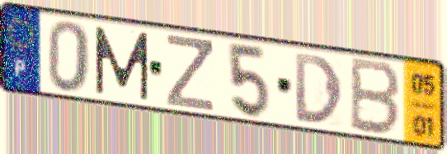0: (45, 18, 93, 95)
5: (223, 41, 273, 121)
B: (347, 54, 403, 139)
D: (292, 50, 345, 126)
M: (92, 23, 151, 103)
Z: (164, 32, 217, 114)
